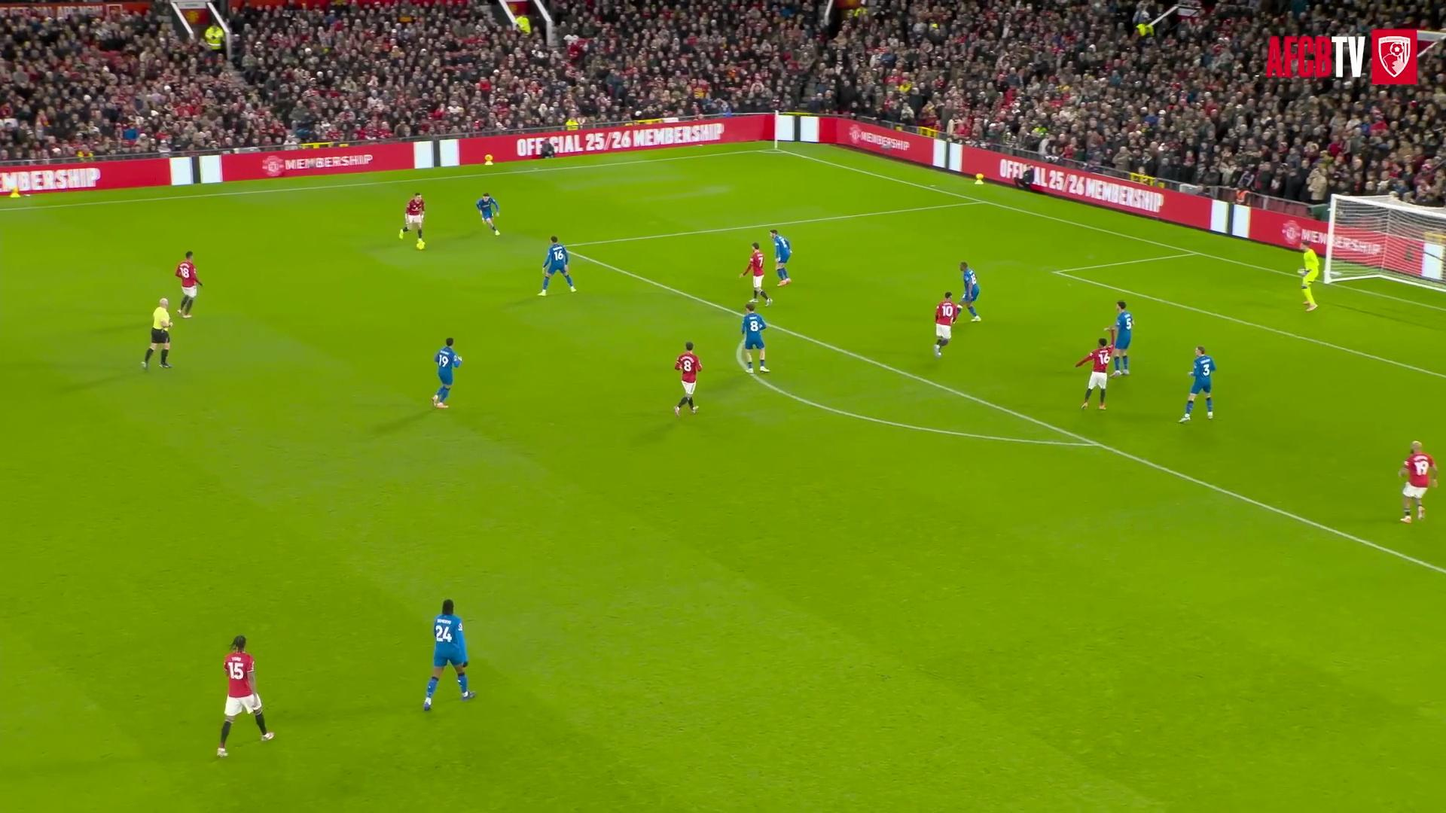player: (218, 635, 273, 757), (424, 599, 475, 710), (1399, 441, 1437, 523), (1179, 346, 1215, 422), (1075, 338, 1112, 410), (538, 236, 575, 295), (432, 338, 462, 408), (740, 242, 771, 306), (674, 343, 701, 415), (742, 303, 769, 373), (175, 251, 201, 317), (933, 291, 958, 358), (1112, 300, 1133, 376), (1298, 240, 1320, 312), (399, 192, 424, 249), (959, 262, 981, 322), (770, 229, 791, 286), (476, 193, 499, 236)
referee: (143, 300, 171, 368)
